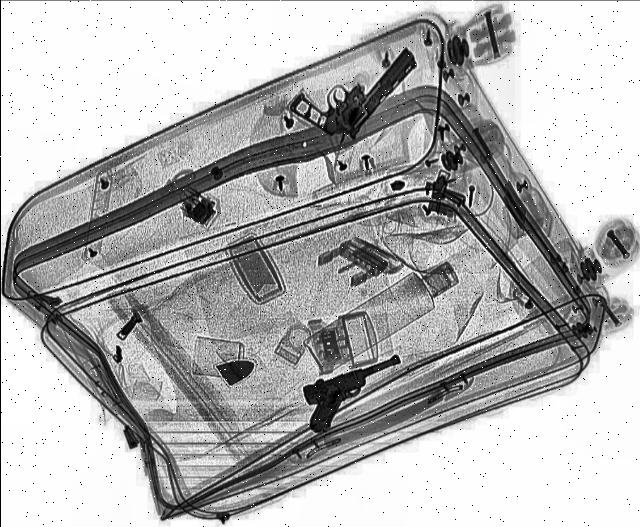Gun: (283, 23, 423, 142), (286, 353, 422, 433)
